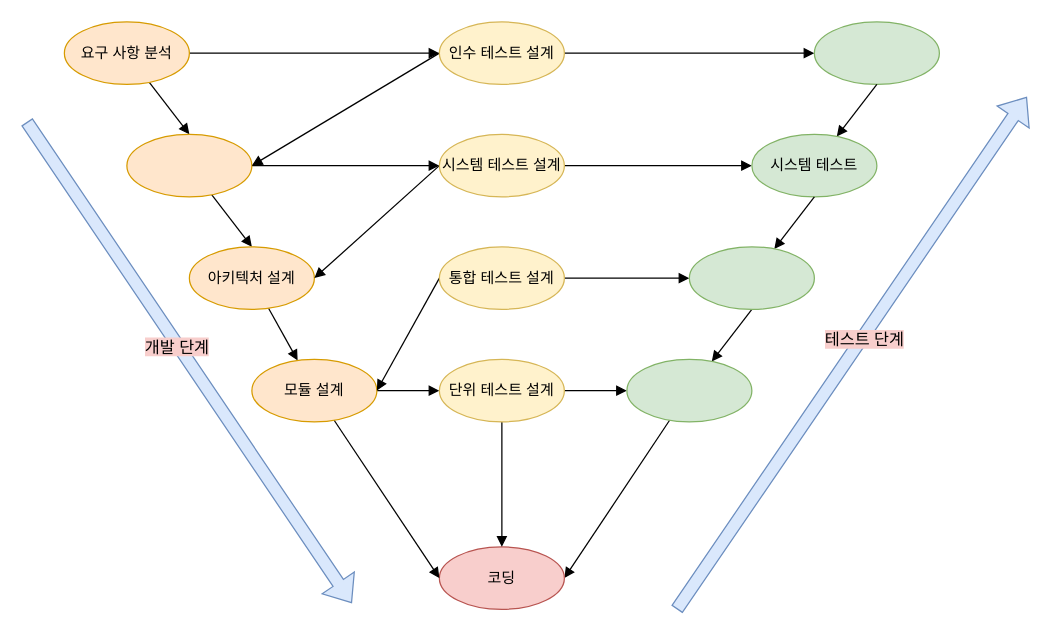
Some shapes in this 1051 by 635 pixel diagram are drawn without their labels. The centre of each missing label's shape, as x and y in pixels:
단위 테스트: the point at 689,390
시스템 설계: the point at 189,165
인수 테스트: the point at 876,52
통합 테스트: the point at 751,277
